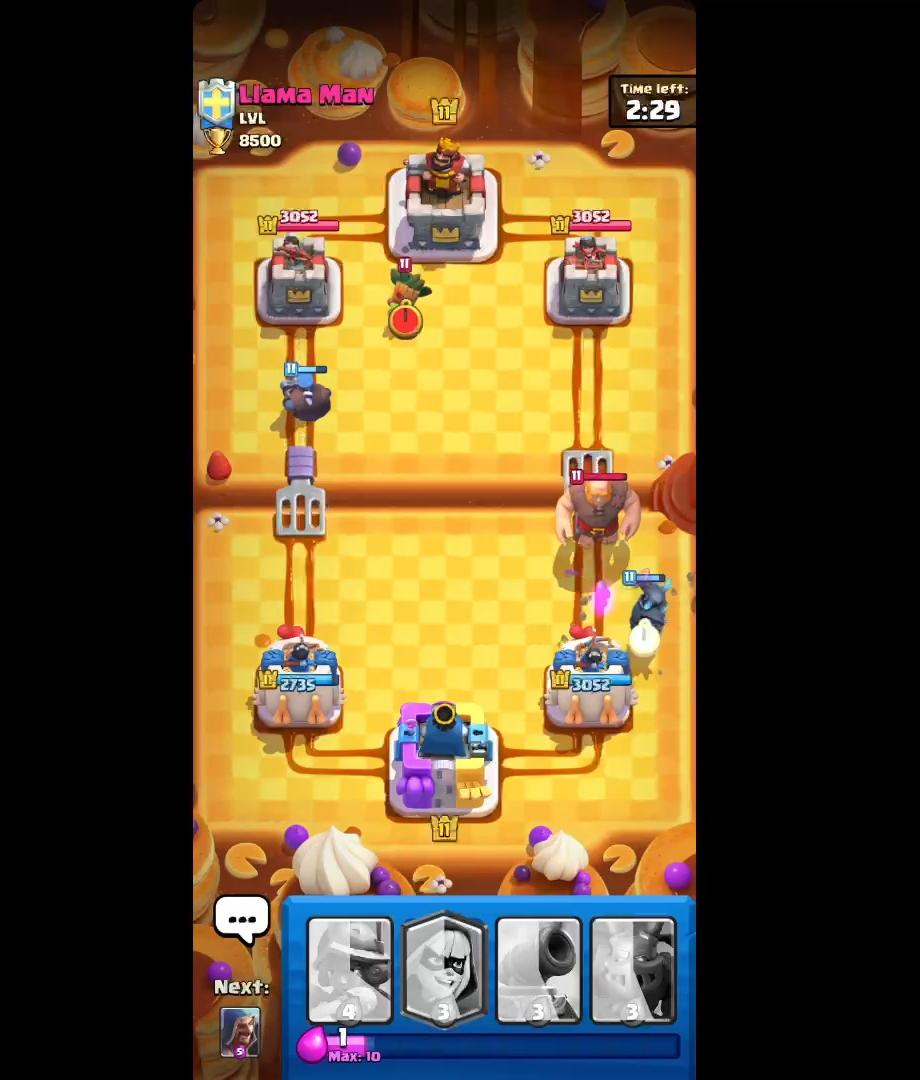Giant: (551, 469, 642, 552)
